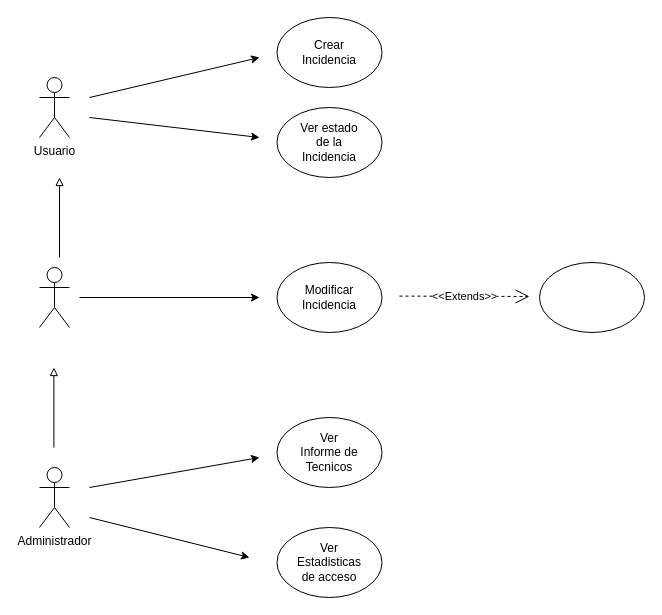
This 662x615 diagram has some shape labels left out. Here are the shapes that lost their labels. From the top down, the centre of each, then its label:
At point 54,297: "Tecnico".
At point 591,297: "Registrar Actuacion".
